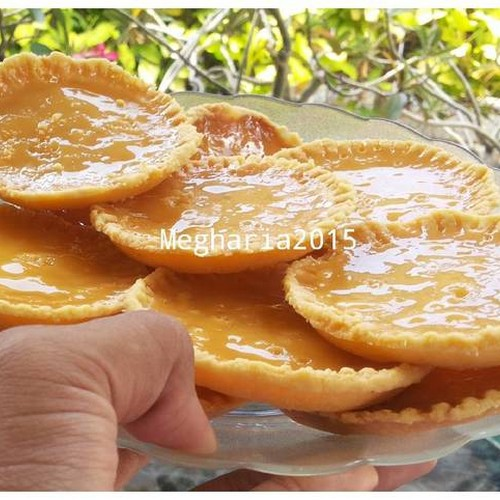pie susu: (10, 47, 193, 222), (299, 206, 500, 364), (114, 147, 341, 267), (284, 129, 500, 221)
